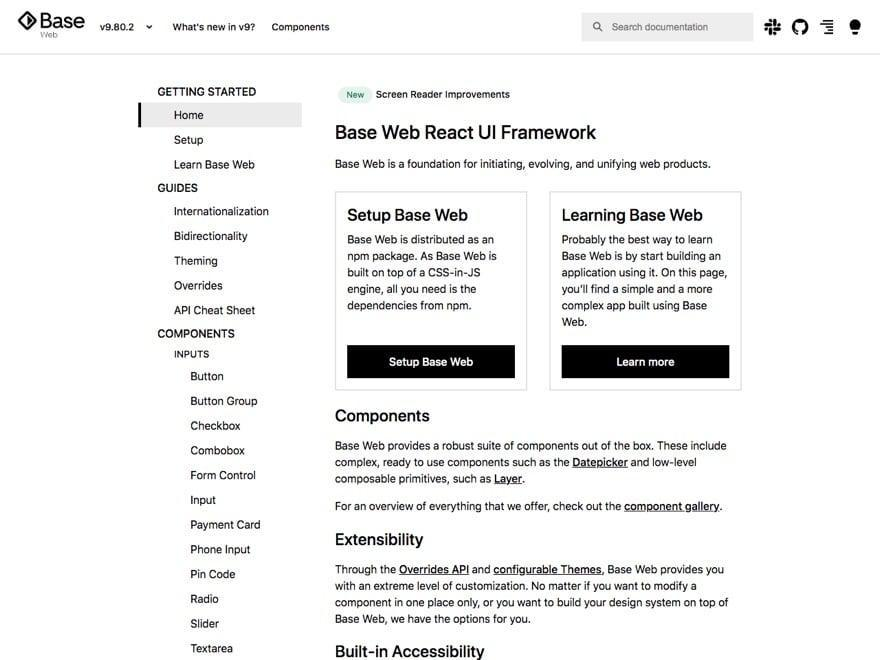button: (561, 345, 732, 380), (348, 345, 516, 380)
icon: (845, 13, 866, 43), (789, 15, 810, 41), (814, 16, 836, 40), (763, 18, 782, 39)
input: (582, 12, 752, 44)
